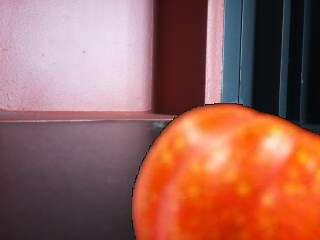Pumpkin: (130, 101, 320, 240)
